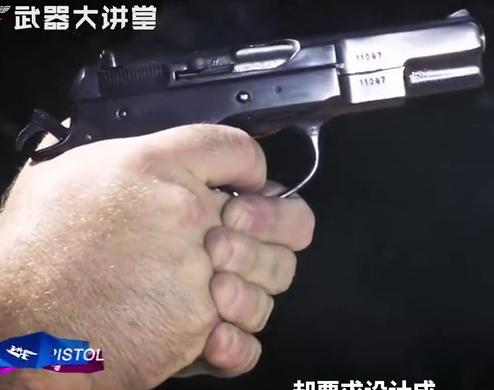gun: (1, 1, 494, 390)
